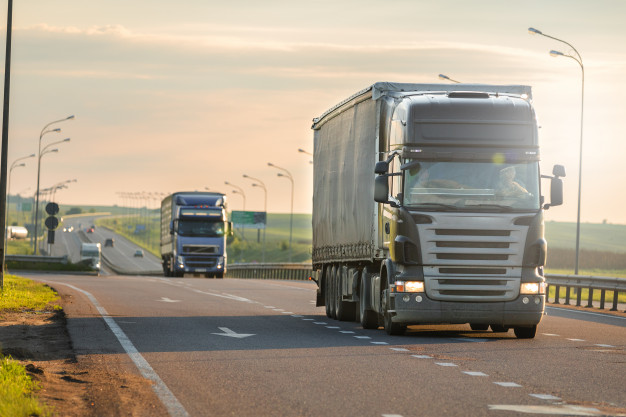truck: (310, 80, 552, 341), (157, 192, 226, 276)
